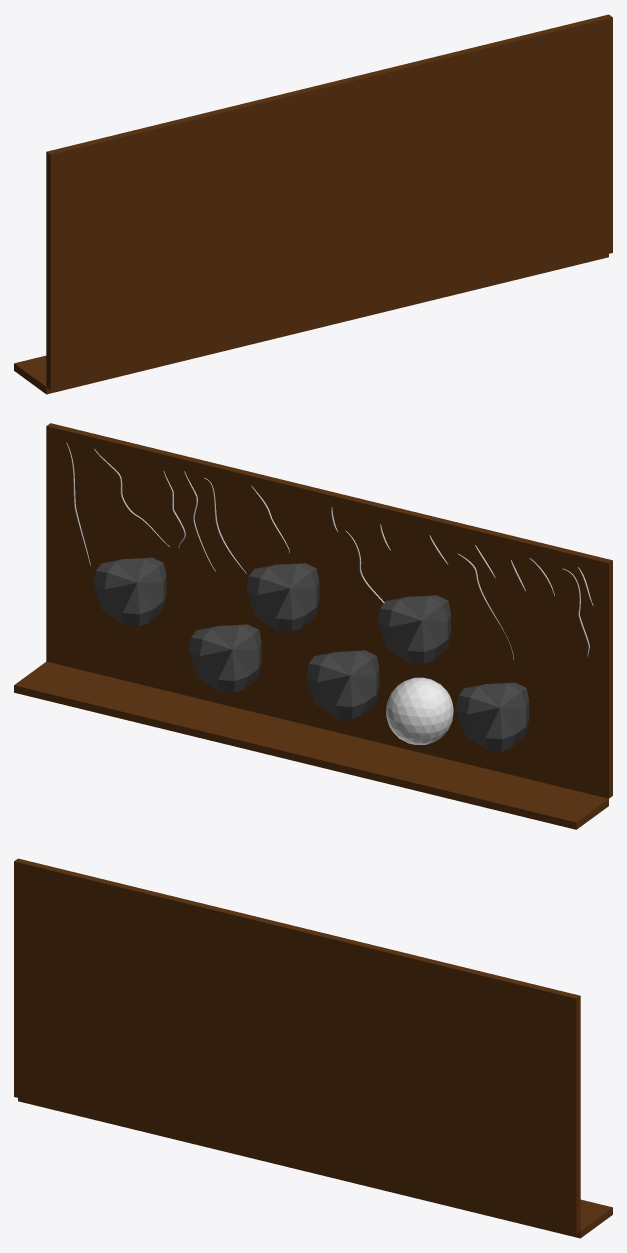
Rendered from Dirt_Platform4.fbx.
3 views of the same model, one above another, from view 1: azimuth 30°, elevation 25°; view 2: azimuth 150°, elevation 25°; view 3: azimuth 330°, elevation 25° (orthographic).
Visible parts, largest first — view 1: Cube.001; view 2: Cube.001, Cube.004, Cube.006, Cube.005, Cube.003, Cube.002, Cube.007, Icosphere, BezierCurve; view 3: Cube.001.
Part boxes in pixels (x1,y1,x2,y2): Cube.001: [14, 14, 612, 394]; Cube.001: [14, 423, 612, 829]; Cube.004: [246, 563, 319, 631]; Cube.006: [456, 682, 529, 751]; Cube.005: [306, 650, 379, 718]; Cube.003: [93, 557, 166, 626]; Cube.002: [188, 624, 261, 692]; Cube.007: [378, 595, 450, 663]; Icosphere: [386, 677, 453, 744]; BezierCurve: [66, 442, 593, 659]; Cube.001: [14, 858, 612, 1238].
Bounding box in the file's own units: 2000 × 825 × 231.
